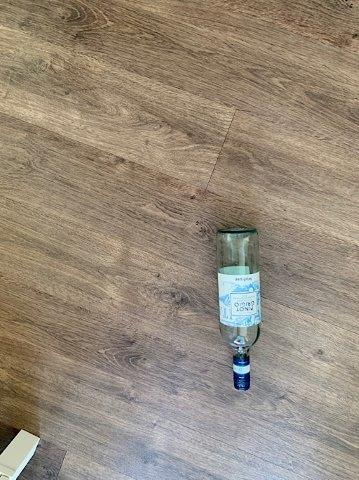botolkaca: (218, 228, 261, 390)
